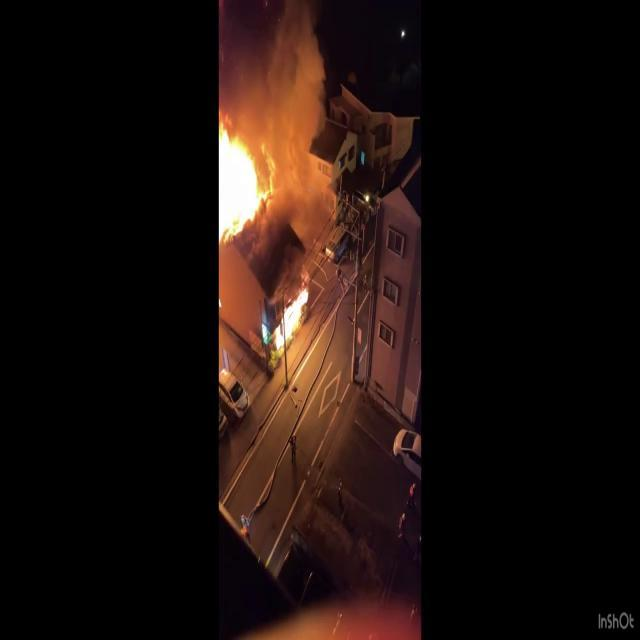Fire: (219, 115, 275, 241), (270, 279, 313, 362)
Smoke: (220, 0, 332, 166)
